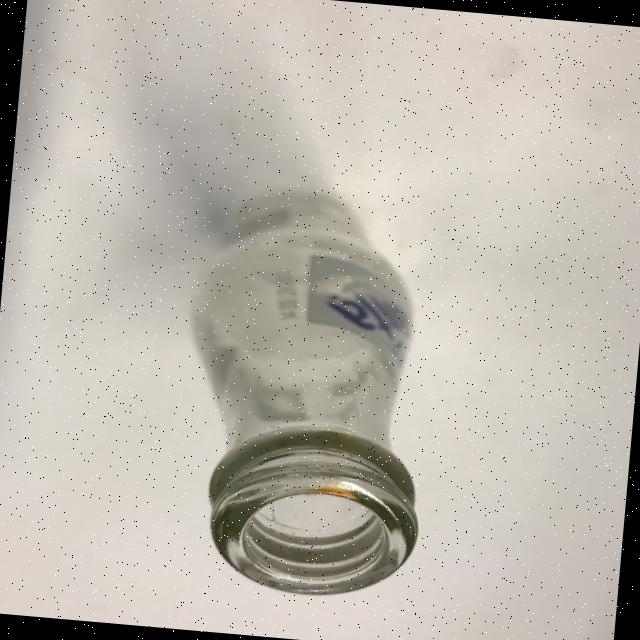glass: (163, 178, 448, 604)
